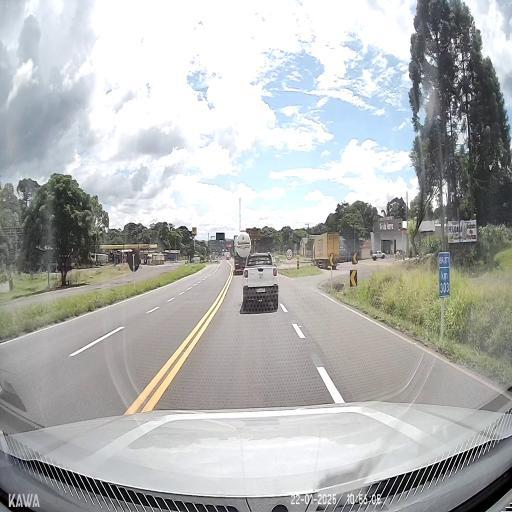R-19: (286, 248, 293, 260)
